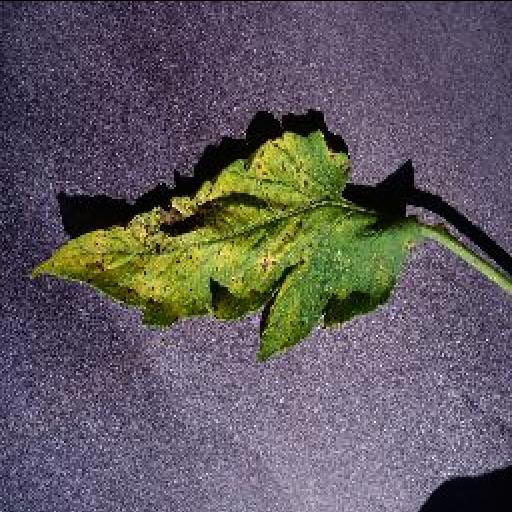disease_tomato: (30, 128, 432, 353)
